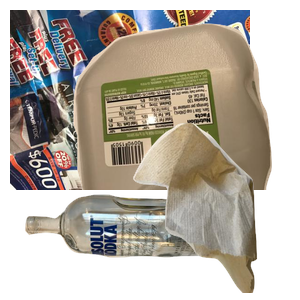glass: (22, 192, 234, 300)
paper: (10, 10, 250, 190)
plastic: (71, 21, 300, 201)
trash: (131, 120, 300, 300)
